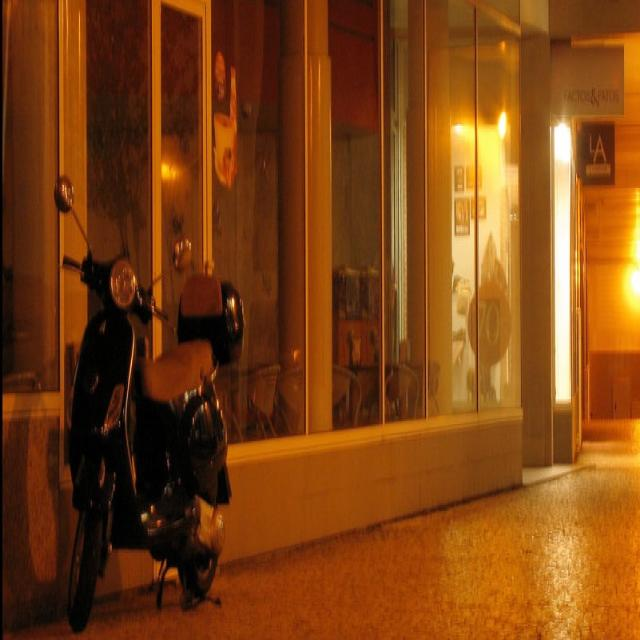Motorbike: (37, 186, 265, 594)
